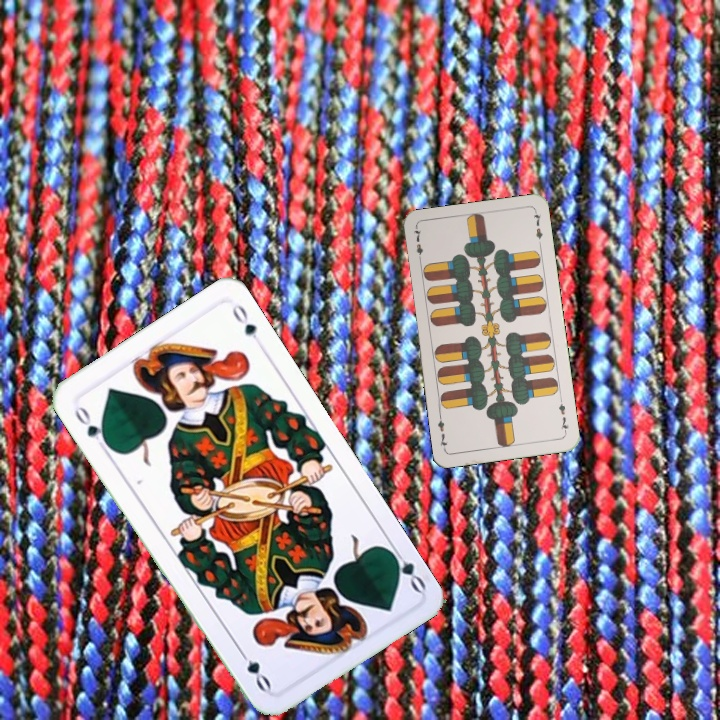E7: (410, 224, 426, 265), (555, 395, 571, 435)
GO: (383, 541, 429, 596), (70, 400, 112, 450)
